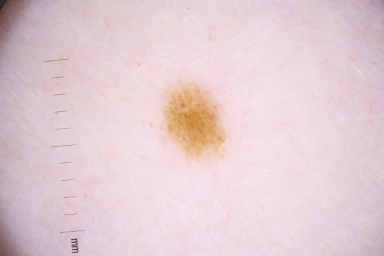nevus: (167, 84, 227, 159)
